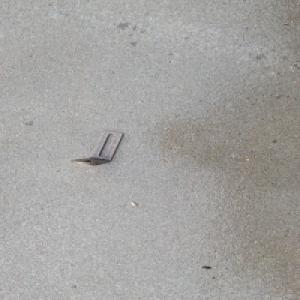MetalPart: (69, 130, 124, 166)
